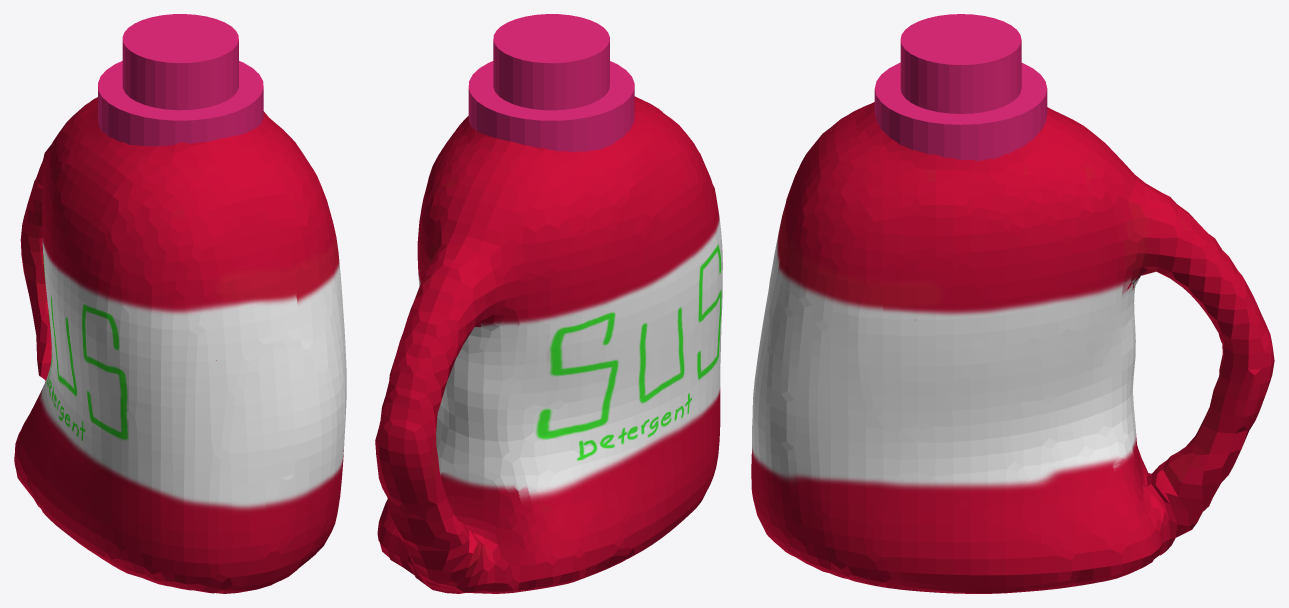
File: deter (2).fbx
3 views of the same model, side by side, from view 1: azimuth 30°, elevation 25°; view 2: azimuth 150°, elevation 25°; view 3: azimuth 270°, elevation 25° (orthographic). The views are drawn at different scales.
Parts seen in each view (by area): view 1: Torus, Cylinder.001, Cylinder.002; view 2: Torus, Cylinder.001, Cylinder.002; view 3: Torus, Cylinder.001, Cylinder.002.
Boxes of the visible parts, x1,y1,x2,y2 form: Torus: (14,97,346,593); Cylinder.001: (122,14,238,110); Cylinder.002: (98,61,263,146); Torus: (375,96,722,593); Cylinder.001: (493,14,609,110); Cylinder.002: (468,61,634,152); Torus: (751,102,1274,593); Cylinder.001: (900,14,1021,113); Cylinder.002: (874,62,1047,160).
Bounding box in the file's own units: 62.25 × 123 × 113.
